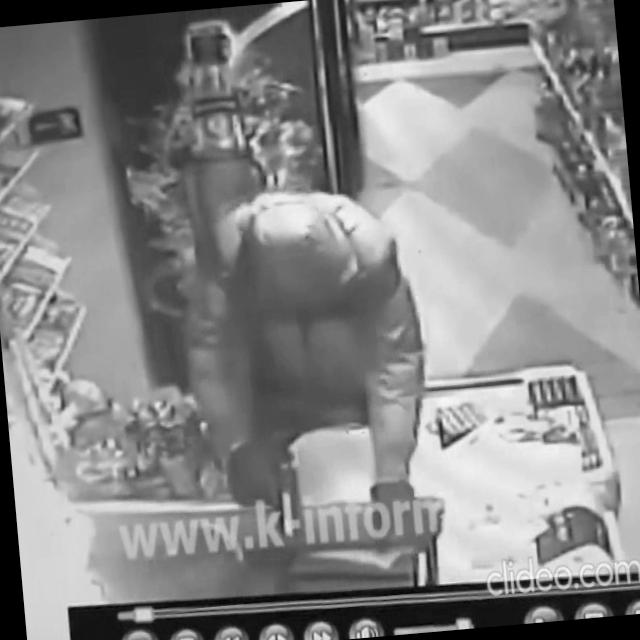gun: (266, 446, 304, 551)
person with a gun: (170, 178, 444, 558)
